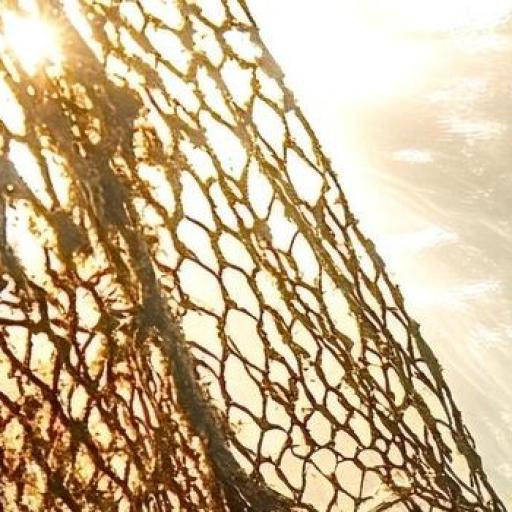net: (0, 4, 512, 512)
